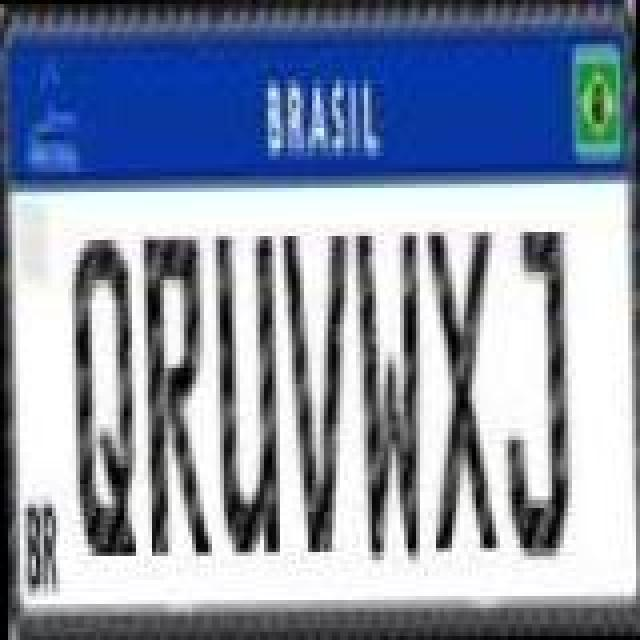J: (502, 228, 570, 564)
Q: (70, 234, 138, 558)
R: (146, 232, 214, 556)
U: (216, 226, 280, 562)
V: (284, 230, 356, 554)
W: (354, 230, 422, 566)
X: (426, 228, 494, 552)
